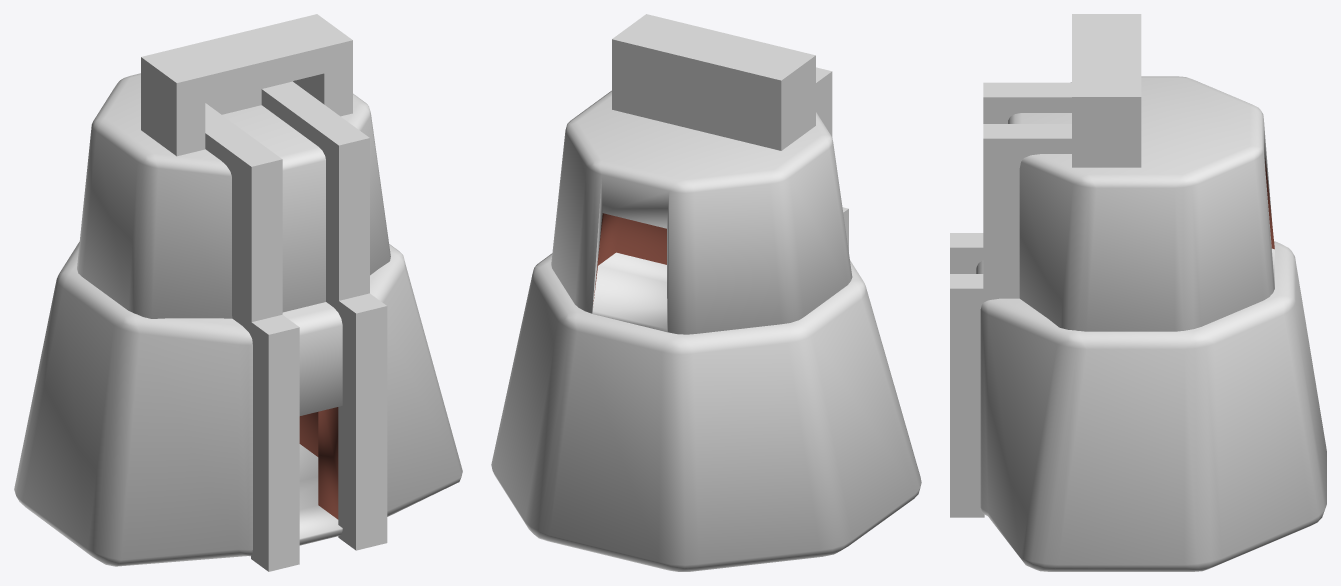
Rendered from WaterFall2.fbx.
3 renders of one model, left to right at view 1: azimuth 30°, elevation 25°; view 2: azimuth 150°, elevation 25°; view 3: azimuth 270°, elevation 25°, orthographic. The views are drawn at different scales.
Visible parts, largest first — view 1: Cylinder.008, Cylinder.009, Cube.009, Cube.005, Cube.007, Cube.008, Cube.006; view 2: Cylinder.008, Cylinder.009, Cube.009, Cube.008; view 3: Cylinder.008, Cylinder.009, Cube.009, Cube.006, Cube.005, Cube.008, Cube.007.
Part boxes in pixels (x1=…): Cylinder.008: x1=14, y1=242, x2=462, y2=566; Cylinder.009: x1=77, y1=73, x2=390, y2=318; Cube.009: x1=141, y1=14, x2=352, y2=156; Cube.005: x1=338, y1=293, x2=387, y2=550; Cube.007: x1=251, y1=314, x2=299, y2=571; Cube.008: x1=205, y1=103, x2=282, y2=335; Cube.006: x1=261, y1=81, x2=369, y2=313; Cylinder.008: x1=491, y1=253, x2=921, y2=571; Cylinder.009: x1=551, y1=90, x2=852, y2=334; Cube.009: x1=612, y1=14, x2=815, y2=150; Cube.008: x1=816, y1=67, x2=832, y2=137; Cylinder.008: x1=976, y1=241, x2=1326, y2=571; Cylinder.009: x1=1008, y1=76, x2=1274, y2=331; Cube.009: x1=1072, y1=14, x2=1141, y2=167; Cube.006: x1=983, y1=124, x2=1071, y2=301; Cube.005: x1=950, y1=274, x2=984, y2=517; Cube.008: x1=983, y1=82, x2=1071, y2=123; Cube.007: x1=950, y1=233, x2=983, y2=273.
Size of the model in its own units: 1188 by 1392 by 1089.
